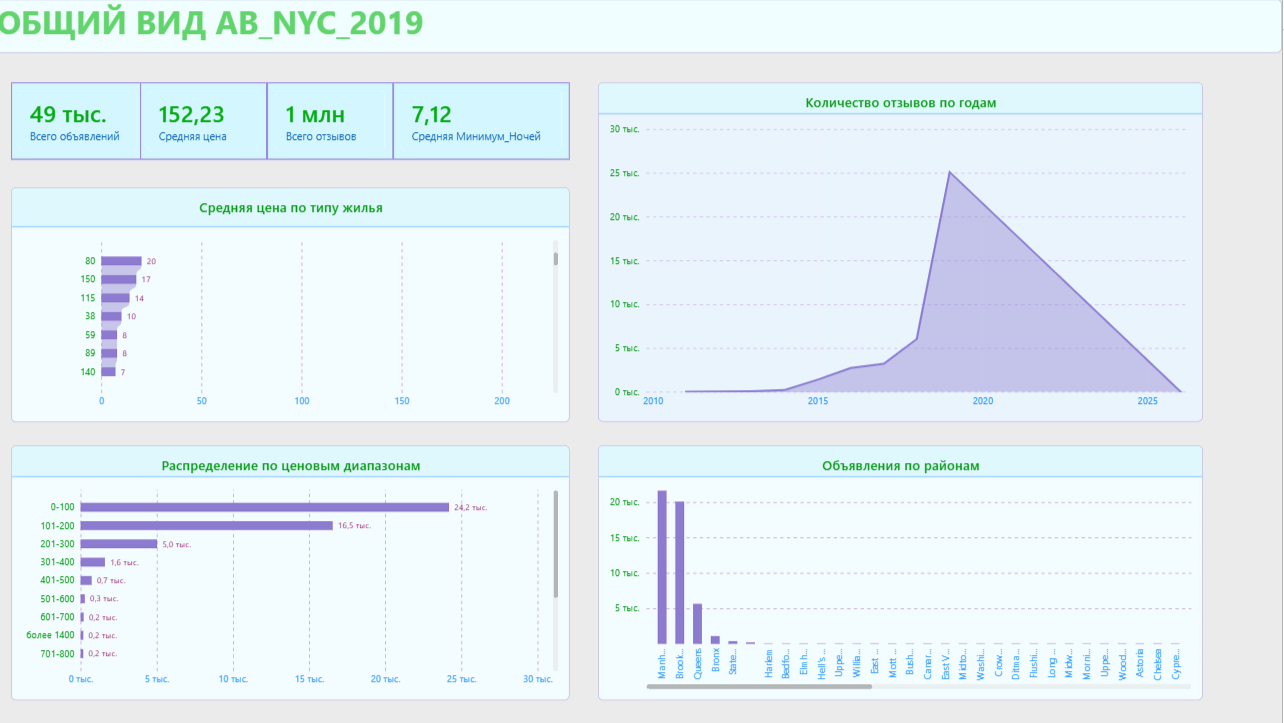

The dashboard page shown, as its layout file describes it:
{"tool":"powerbi","page":{"name":"Страница 1","canvas":[1920,1080],"ordinal":0},"visuals":[{"type":"textbox","box":[0,0,1920,80],"z":0},{"type":"barChart","title":"Распределение по ценовым диапазонам","fields":{"Category":["nyc.Диапазон"],"Y":["nyc.Количество"]},"box":[22.9,665.7,834.3,381.4],"z":1000},{"type":"cardVisual","fields":{"Data":["nyc.Total Listings"]},"box":[22.9,124.3,200,115.7],"z":1001},{"type":"cardVisual","fields":{"Data":["nyc.Avg Price"]},"box":[214.3,124.3,190,115.7],"z":1002},{"type":"cardVisual","fields":{"Data":["nyc.Всего отзывов"]},"box":[404.3,124.3,188.6,115.7],"z":1003},{"type":"cardVisual","fields":{"Data":["nyc.Средняя Минимум_Ночей"]},"box":[592.9,124.3,264.3,115.7],"z":1004},{"type":"lineClusteredColumnComboChart","title":"Объявления по районам","fields":{"Category":["nyc.neighbourhood_group"],"Y":["nyc.Total Listings"]},"box":[898.8,665.9,977.9,380.7],"z":1005},{"type":"stackedAreaChart","title":"Количество отзывов по годам","fields":{"Category":["nyc.Год"],"Y":["nyc.Total Listings"]},"box":[898.8,123.9,977.9,507.6],"z":1006},{"type":"barChart","title":"Средняя цена по типу жилья","fields":{"Y":["nyc.Avg Price"],"Category":["nyc.room_type"]},"box":[22.9,280,834.3,351.4],"z":1007}]}

Visuals, with their boxes in screenshot pixels (x1, y1, x2, y2), scaled from the page's 1920x1080 canvas onto the 1284x723 screenshot:
textbox: pyautogui.locateOnScreen(0, 0, 1283, 54)
"Распределение по ценовым диапазонам" barChart: pyautogui.locateOnScreen(15, 446, 573, 701)
cardVisual - nyc.Total Listings: pyautogui.locateOnScreen(15, 83, 149, 161)
cardVisual - nyc.Avg Price: pyautogui.locateOnScreen(143, 83, 270, 161)
cardVisual - nyc.Всего отзывов: pyautogui.locateOnScreen(270, 83, 397, 161)
cardVisual - nyc.Средняя Минимум_Ночей: pyautogui.locateOnScreen(397, 83, 573, 161)
"Объявления по районам" lineClusteredColumnComboChart: pyautogui.locateOnScreen(601, 446, 1255, 701)
"Количество отзывов по годам" stackedAreaChart: pyautogui.locateOnScreen(601, 83, 1255, 423)
"Средняя цена по типу жилья" barChart: pyautogui.locateOnScreen(15, 187, 573, 423)
